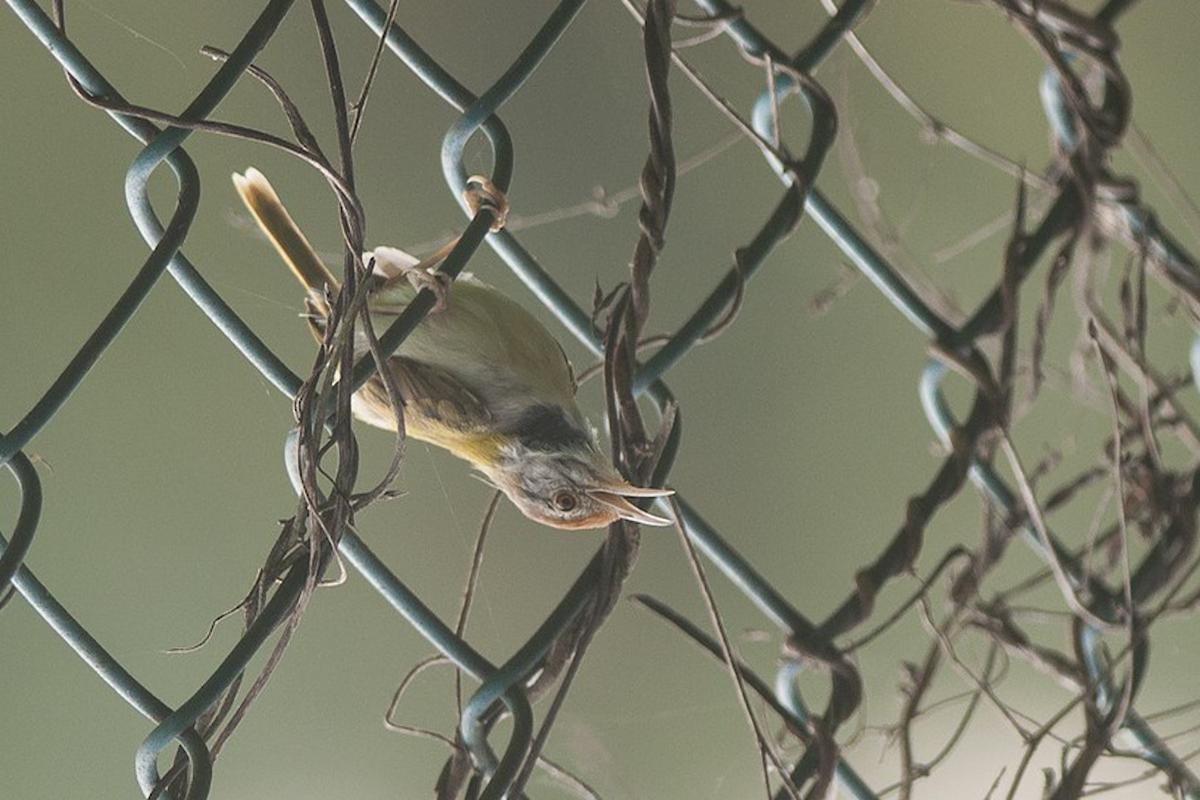tailorbird: (263, 183, 688, 547)
